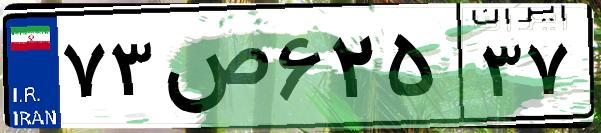2: (330, 28, 385, 110)
3: (475, 38, 525, 113), (110, 28, 158, 98)
5: (385, 28, 445, 110)
6: (270, 28, 330, 110)
7: (57, 26, 110, 100), (525, 38, 570, 115)
ص: (158, 20, 270, 120)
